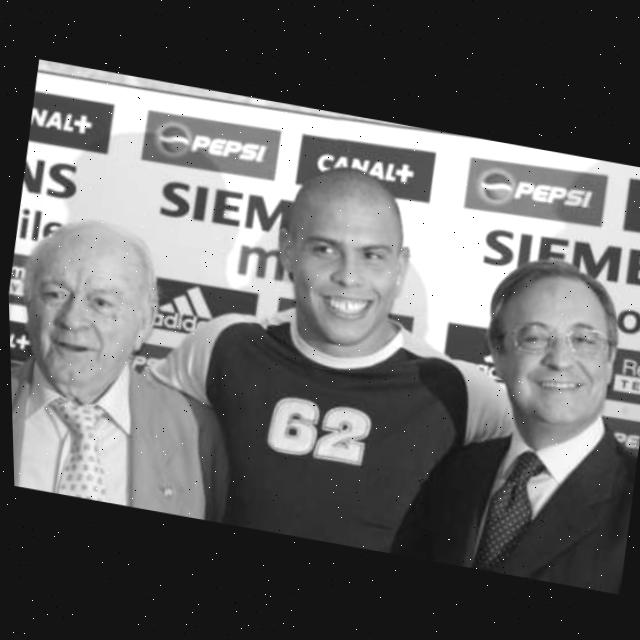face: (473, 243, 638, 457), (265, 153, 426, 363), (11, 207, 168, 406)
